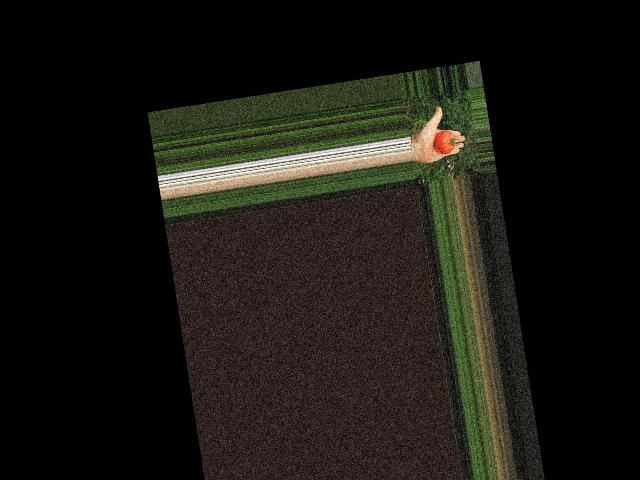tomato: (432, 129, 456, 156)
